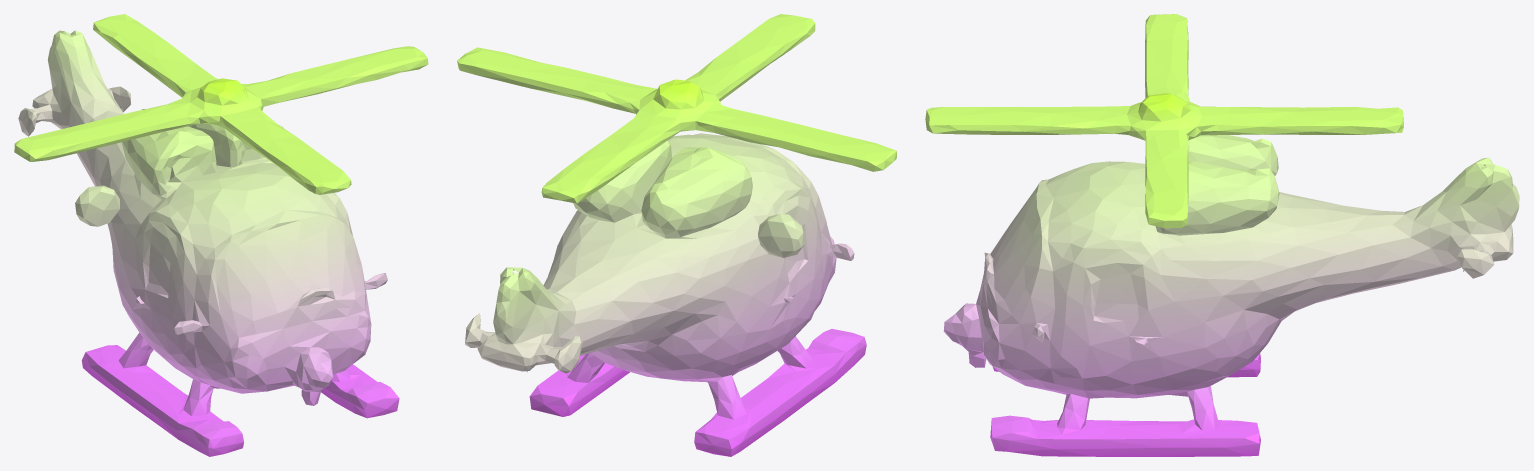
The model's file is 74_cyb_laser_gradient_fish_scales_2814_2026_10_03_cf8615.glb.
3 views of the same model, side by side, from view 1: azimuth 30°, elevation 25°; view 2: azimuth 150°, elevation 25°; view 3: azimuth 270°, elevation 25° (orthographic). The views are drawn at different scales.
Parts seen in each view (by area): view 1: geometry_0; view 2: geometry_0; view 3: geometry_0.
Part boxes in pixels (box(x1,y1,x2,y2)): geometry_0: box(14, 14, 428, 456); geometry_0: box(457, 14, 896, 456); geometry_0: box(925, 14, 1519, 456).
Size of the model in its own units: 0.8214 by 0.5784 by 1.
